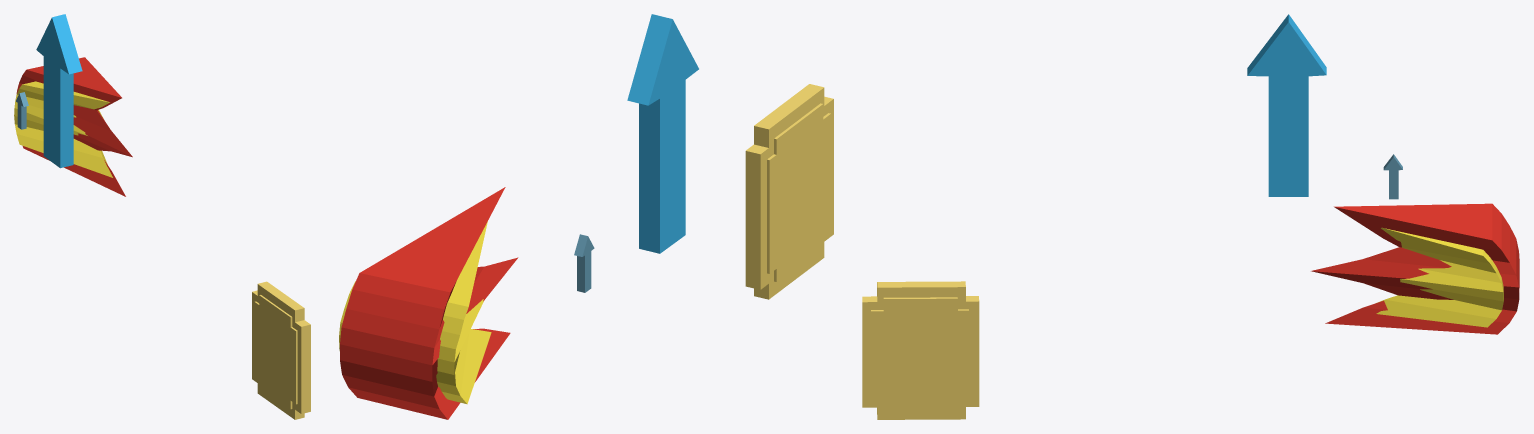
The picture shows the model from 3 angles, left to right: view 1: azimuth 30°, elevation 25°; view 2: azimuth 150°, elevation 25°; view 3: azimuth 270°, elevation 25°; orthographic projection. The views are drawn at different scales.
Parts seen in each view (by area): view 1: Cube.002, Cube.001, Cube.004, Cube, Cube.005, Cube.003; view 2: Cube.004, Cube.002, Cube.001, Cube, Cube.005, Cube.003; view 3: Cube.004, Cube.001, Cube.002, Cube.005, Cube.
Part boxes in pixels (box(x1,y1,x2,y2)): Cube.002: box(36, 14, 82, 168); Cube.001: box(254, 295, 297, 409); Cube.004: box(16, 57, 132, 196); Cube: box(252, 281, 310, 419); Cube.005: box(14, 81, 112, 177); Cube.003: box(16, 92, 28, 129); Cube.004: box(340, 187, 518, 419); Cube.002: box(627, 14, 698, 253); Cube.001: box(767, 103, 830, 281); Cube: box(745, 84, 833, 299); Cube.005: box(339, 221, 491, 404); Cube.003: box(574, 234, 594, 292); Cube.004: box(1311, 203, 1519, 334); Cube.001: box(871, 297, 968, 410); Cube.002: box(1247, 14, 1326, 196); Cube.005: box(1376, 227, 1503, 327); Cube: box(862, 281, 979, 419).
Bounding box in the file's own units: 157 × 352 × 587.
